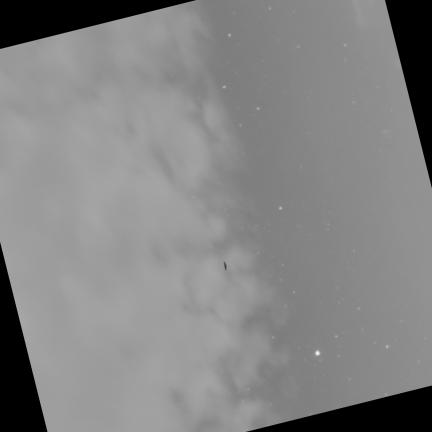Shahed: (223, 261, 226, 269)
